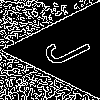J: (41, 25, 100, 71)
